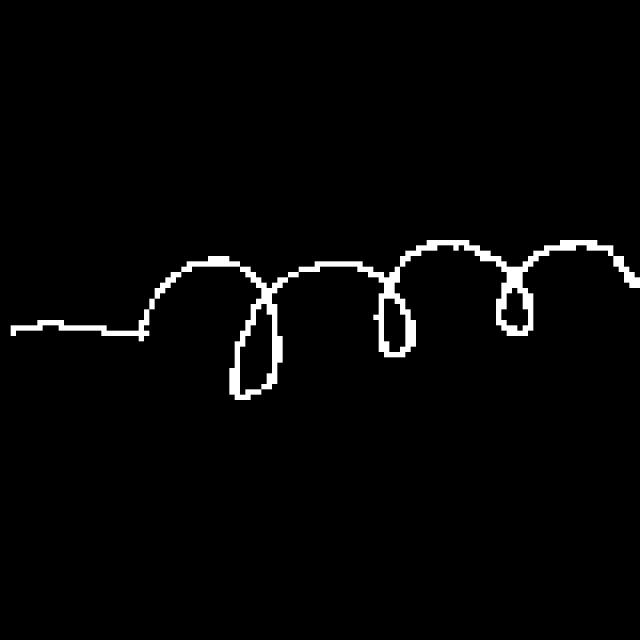inductor: (112, 197, 639, 414)
